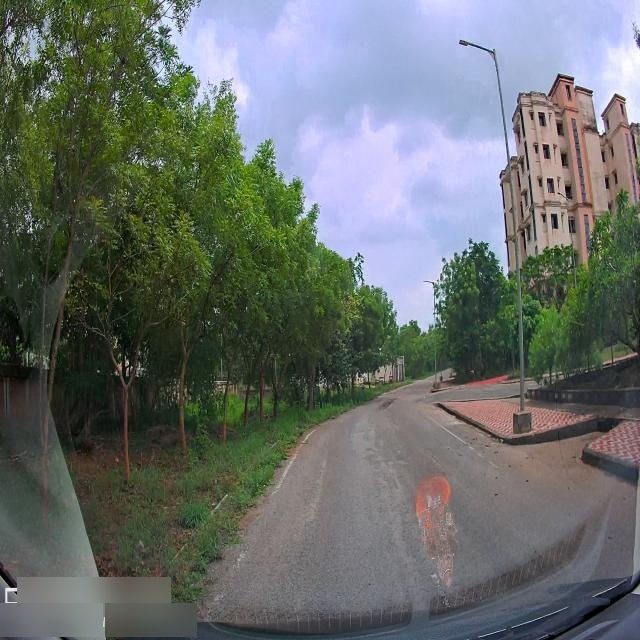pothole: (381, 512, 420, 602), (382, 452, 406, 499), (346, 427, 384, 454)
